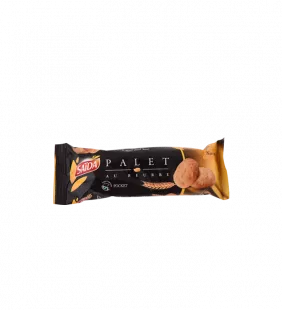PALETS SAIDA: (44, 132, 236, 212)
